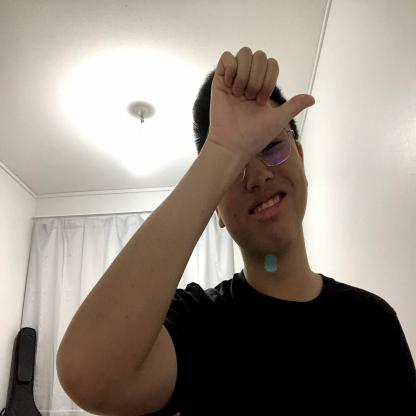left: (208, 46, 318, 161)
